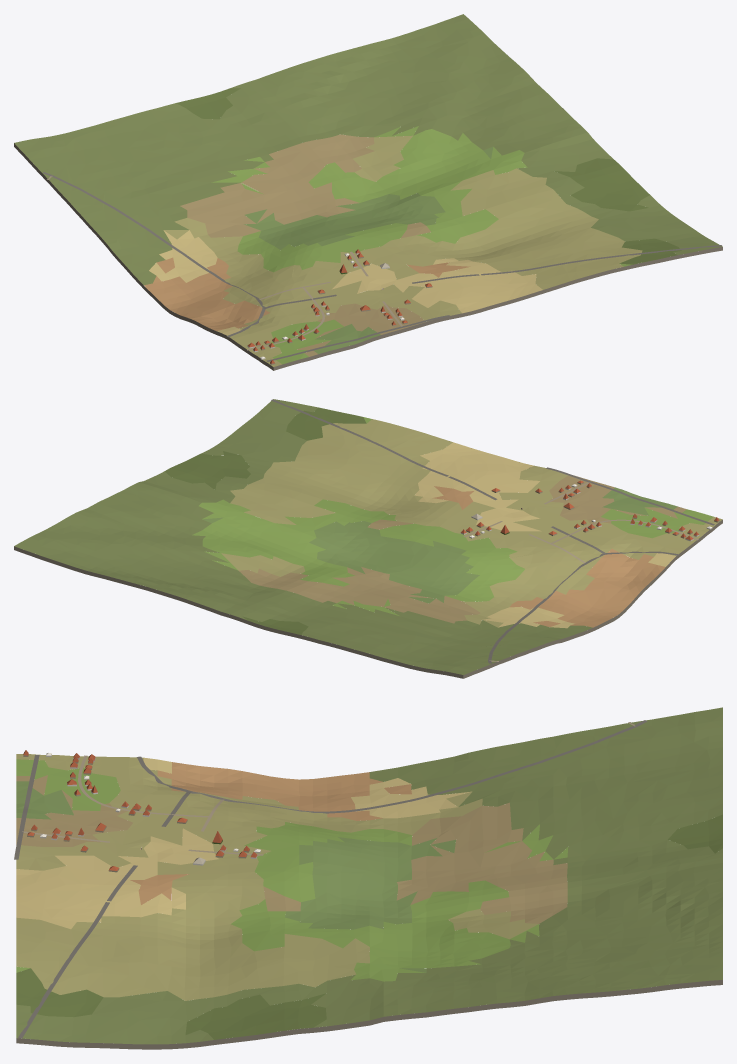
The model's file is parca_+7_-2-uzak.glb.
The picture shows the model from 3 angles, top to bottom: view 1: azimuth 30°, elevation 25°; view 2: azimuth 150°, elevation 25°; view 3: azimuth 270°, elevation 25°; orthographic projection. The views are drawn at different scales.
Parts seen in each view (by area): view 1: parca_+7_-2_arazi_uzak, parca_+7_-2_yollar_uzak, parca_+7_-2_yapilar_uzak; view 2: parca_+7_-2_arazi_uzak, parca_+7_-2_yollar_uzak, parca_+7_-2_yapilar_uzak; view 3: parca_+7_-2_arazi_uzak, parca_+7_-2_yollar_uzak, parca_+7_-2_yapilar_uzak.
Part boxes in pixels (<box>): parca_+7_-2_arazi_uzak: <box>14,14,722,370</box>; parca_+7_-2_yollar_uzak: <box>43,172,721,361</box>; parca_+7_-2_yapilar_uzak: <box>247,249,432,364</box>; parca_+7_-2_arazi_uzak: <box>14,399,722,678</box>; parca_+7_-2_yollar_uzak: <box>271,399,714,663</box>; parca_+7_-2_yapilar_uzak: <box>460,480,719,541</box>; parca_+7_-2_arazi_uzak: <box>16,707,722,1049</box>; parca_+7_-2_yollar_uzak: <box>14,720,647,1038</box>; parca_+7_-2_yapilar_uzak: <box>23,750,260,872</box>.
Size of the model in its own units: 1005 by 162 by 1003.
